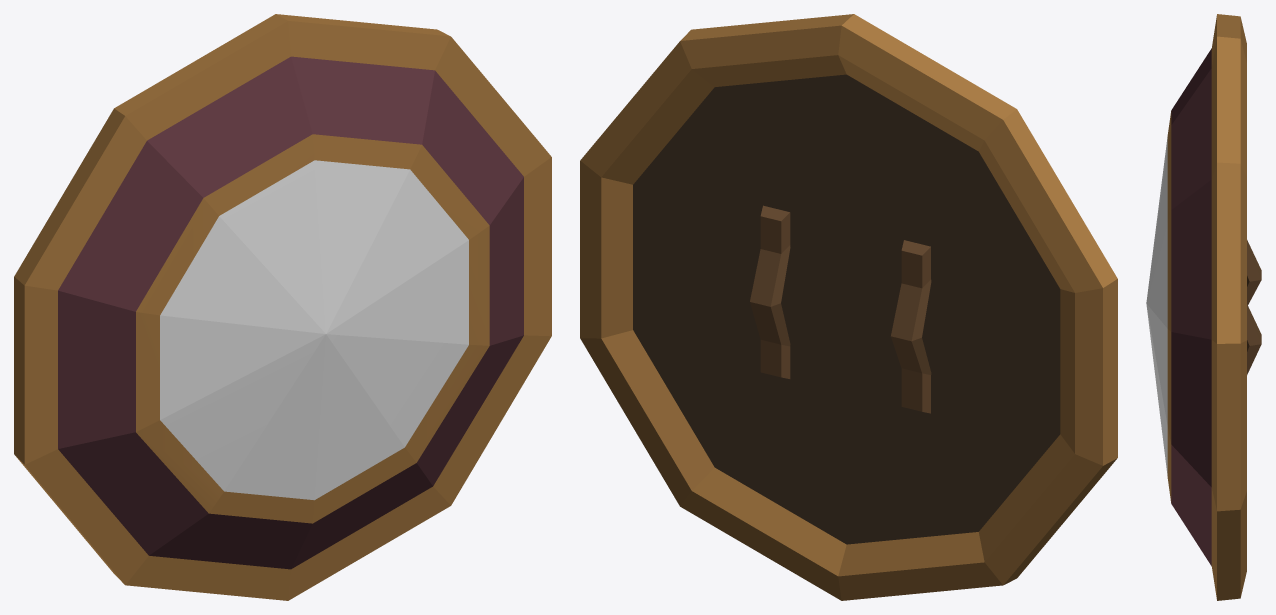
Rendered from SM_Shield_Greek_Empire.fbx.
The picture shows the model from 3 angles, left to right: view 1: azimuth 30°, elevation 25°; view 2: azimuth 150°, elevation 25°; view 3: azimuth 270°, elevation 25°; orthographic projection. The views are drawn at different scales.
Visible parts, largest first — view 1: SM_Shield_Ancient_Greek_Empire; view 2: SM_Shield_Ancient_Greek_Empire; view 3: SM_Shield_Ancient_Greek_Empire.
Part boxes in pixels (bbox=[...]): SM_Shield_Ancient_Greek_Empire: bbox=[14, 14, 551, 600]; SM_Shield_Ancient_Greek_Empire: bbox=[580, 14, 1117, 600]; SM_Shield_Ancient_Greek_Empire: bbox=[1146, 14, 1261, 600].
Size of the model in its own units: 0.9272 by 0.9749 by 0.188.
